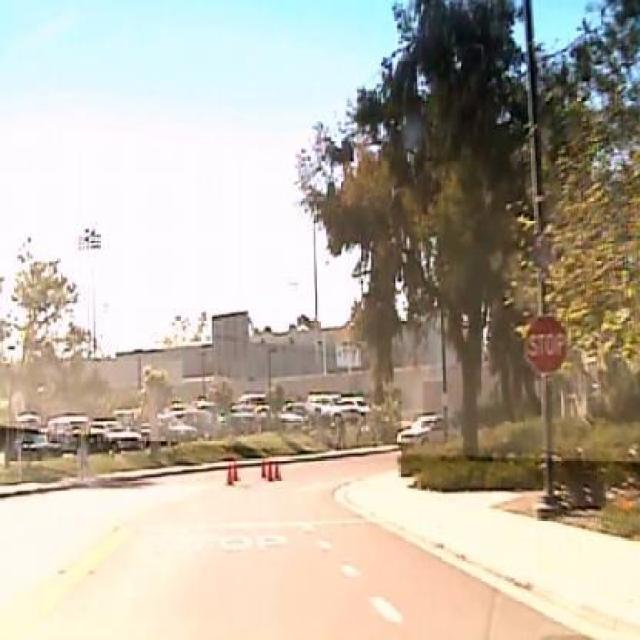stop: (522, 313, 567, 376)
